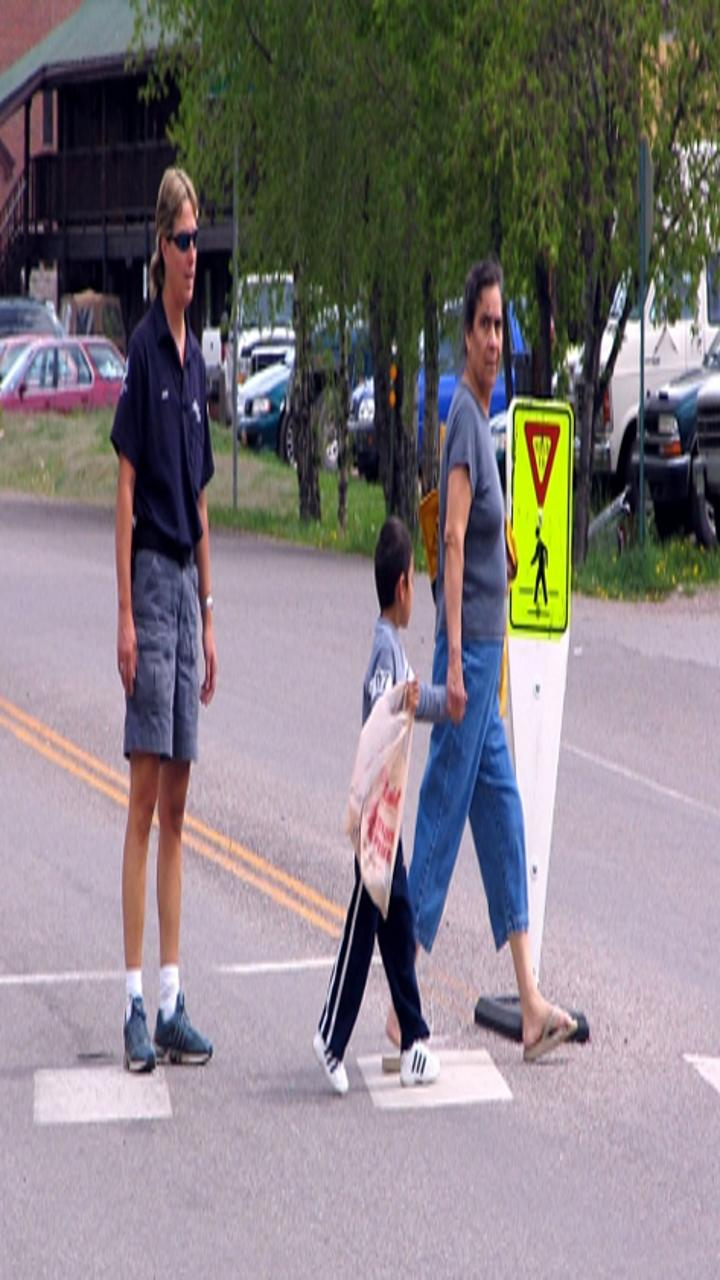Traffic sign: (498, 392, 602, 639)
pedestrian: (395, 267, 591, 1064), (95, 133, 228, 1072), (307, 509, 448, 1093)
